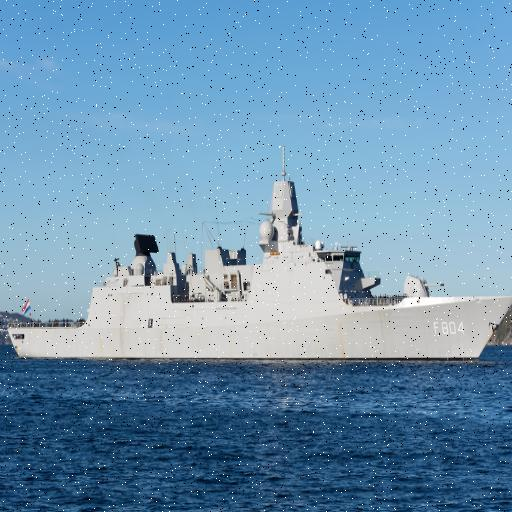Fragata: (1, 144, 512, 364)
